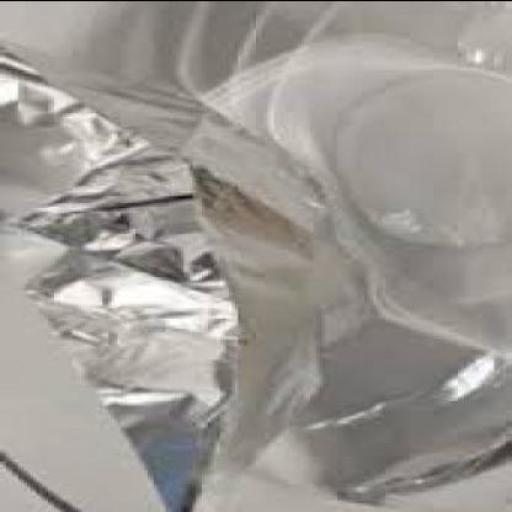metal: (0, 1, 510, 510)
